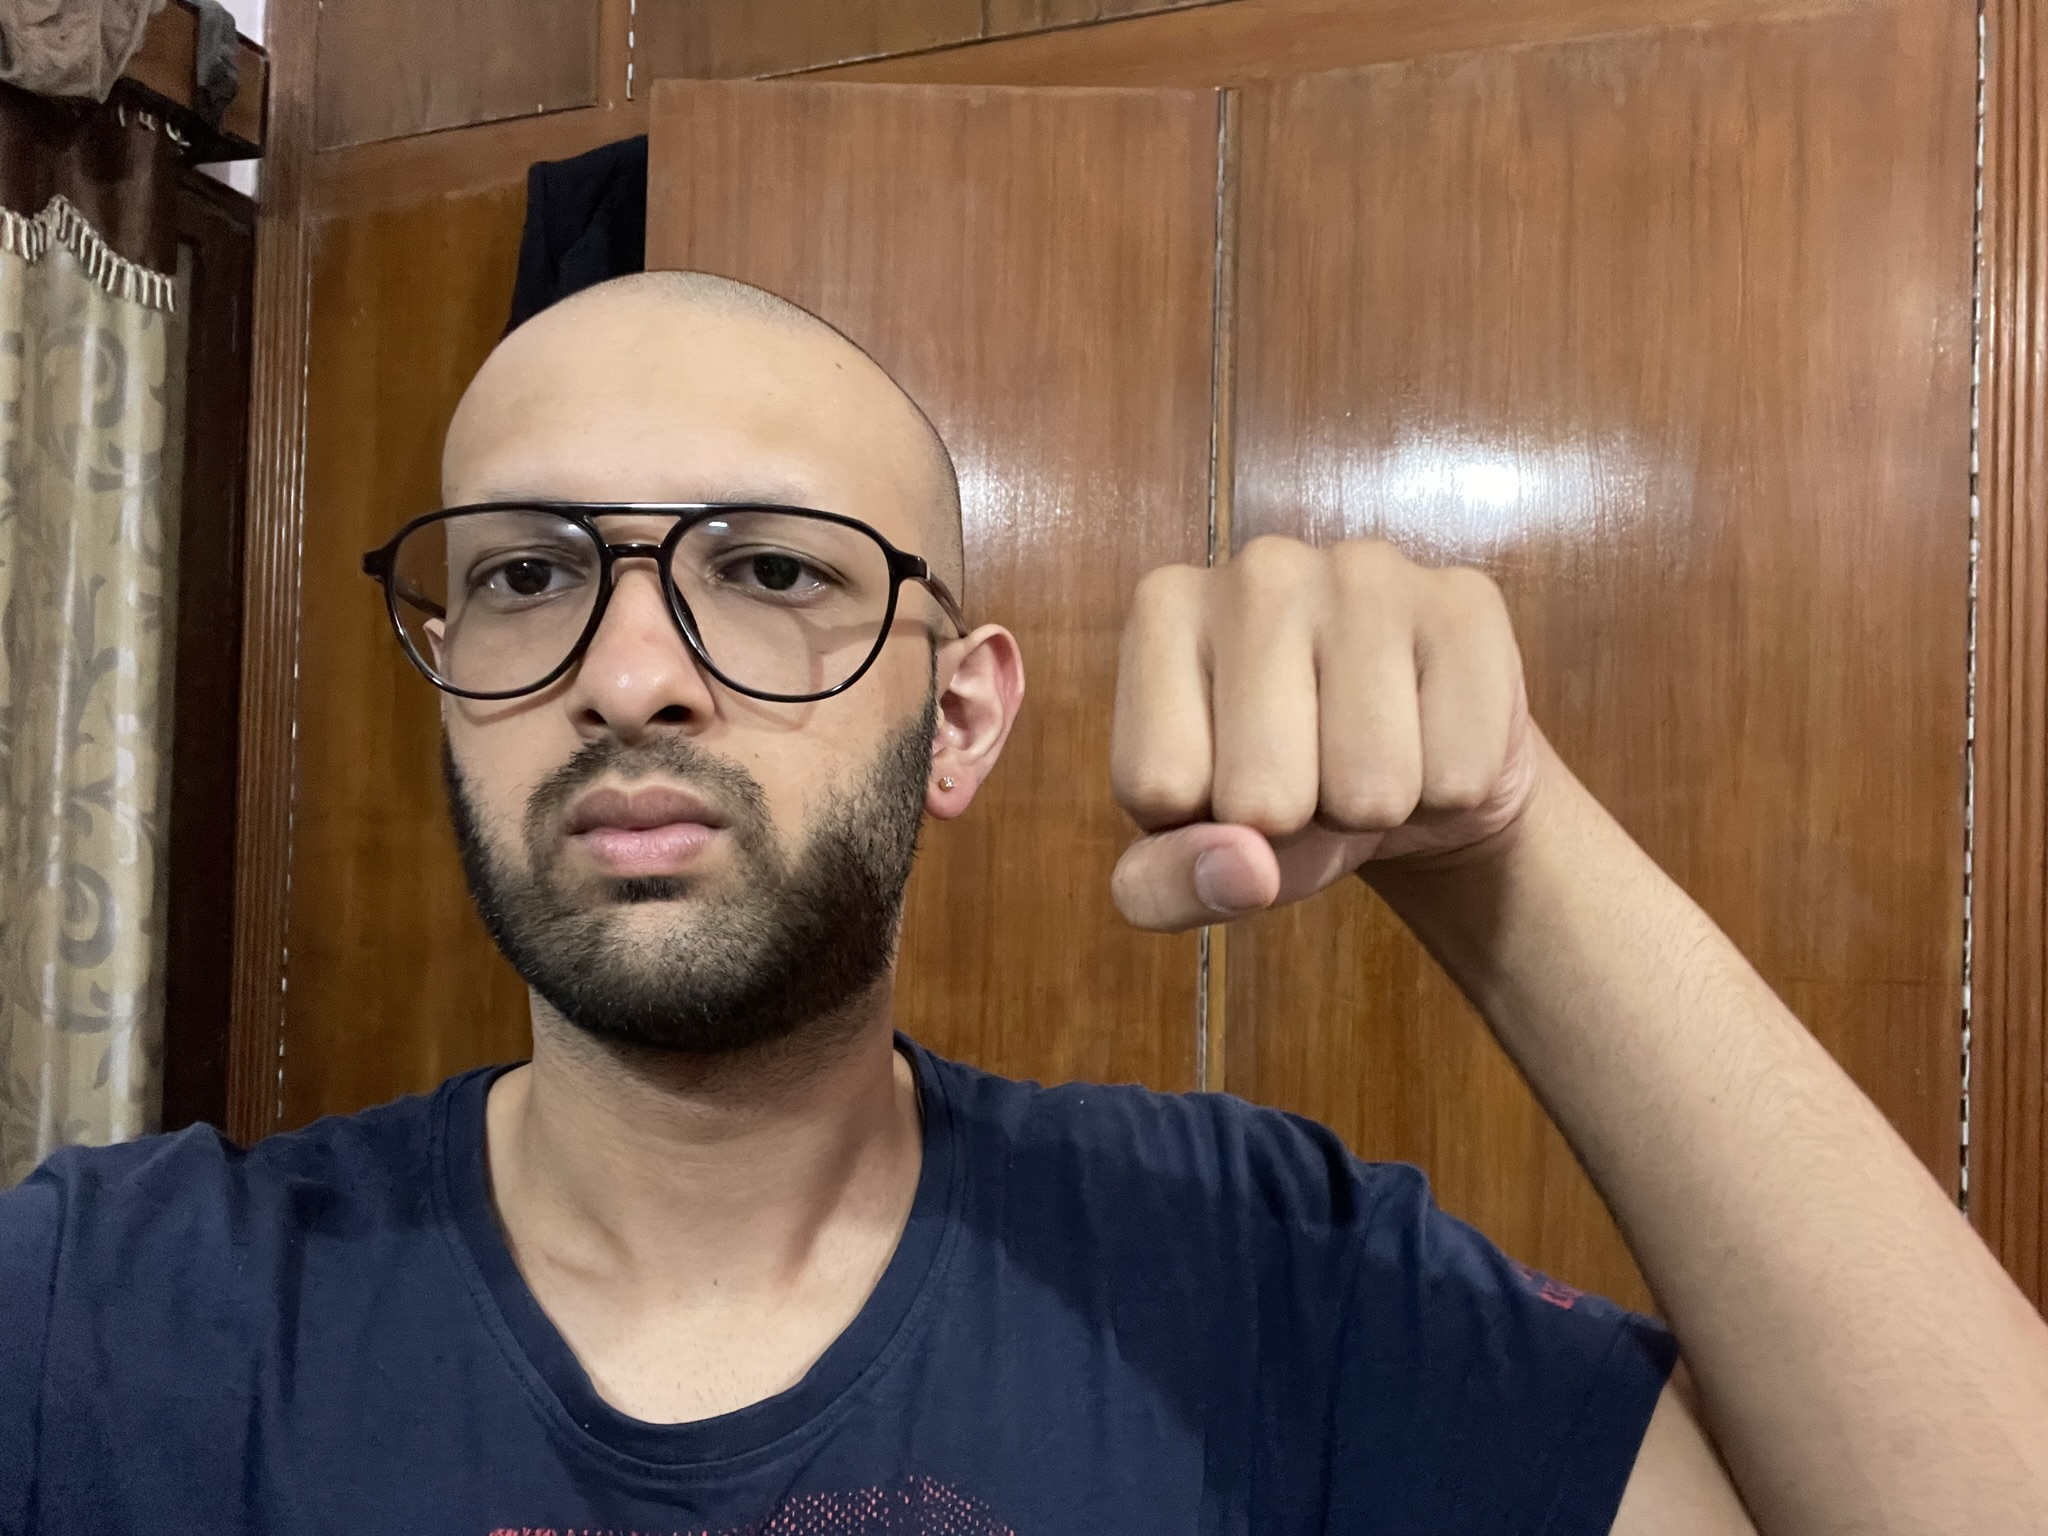Yes: (1100, 524, 1542, 954)
